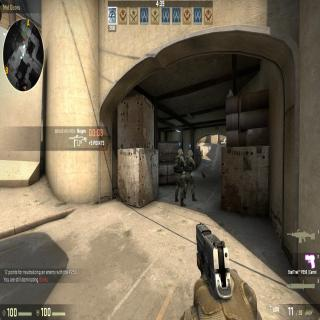CT-Body: (174, 148, 185, 205), (185, 148, 195, 201)
CT-Head: (187, 148, 193, 157), (178, 148, 184, 156)
